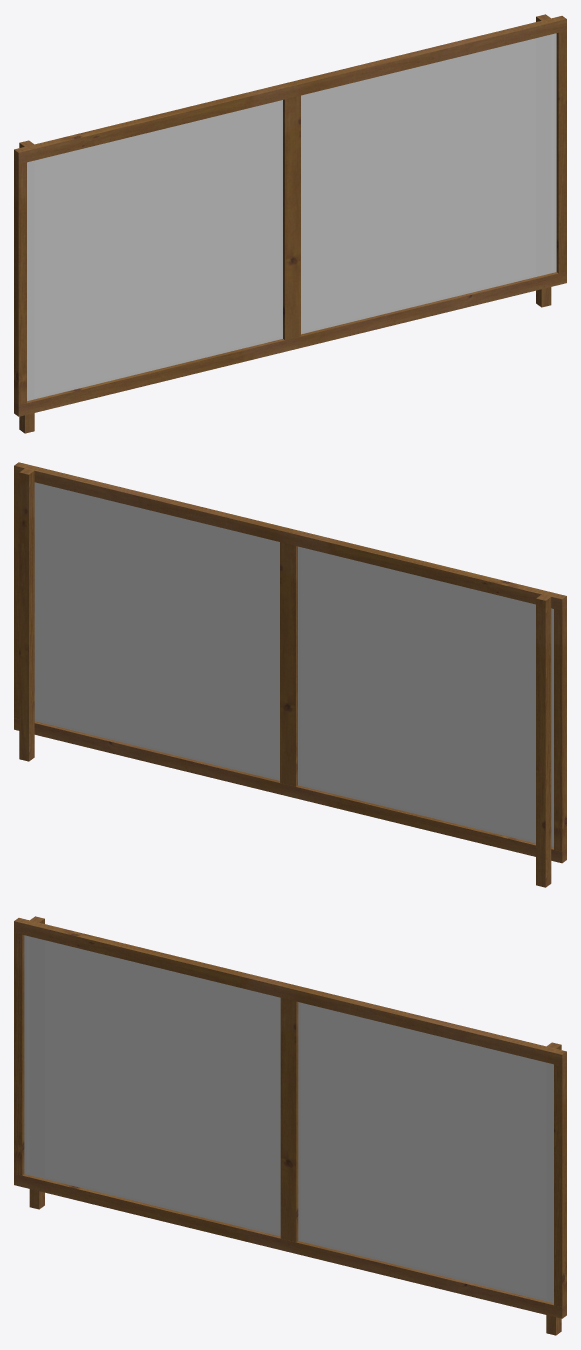
The model's file is EAFpolycadesign_w1998-h920_naturalpine.fbx.
3 renders of one model, top to bottom at view 1: azimuth 30°, elevation 25°; view 2: azimuth 150°, elevation 25°; view 3: azimuth 330°, elevation 25°, orthographic.
Visible parts, largest first — view 1: EAFpolycadesign_w1998-h920_naturalpine; view 2: EAFpolycadesign_w1998-h920_naturalpine; view 3: EAFpolycadesign_w1998-h920_naturalpine.
Part boxes in pixels (left/top/right/bottom): EAFpolycadesign_w1998-h920_naturalpine: left=14, top=14, right=566, bottom=433; EAFpolycadesign_w1998-h920_naturalpine: left=14, top=462, right=566, bottom=887; EAFpolycadesign_w1998-h920_naturalpine: left=14, top=916, right=566, bottom=1335.
Bounding box in the file's own units: 200 × 100 × 6.5.
Materials: 3 (2 with a texture image).
